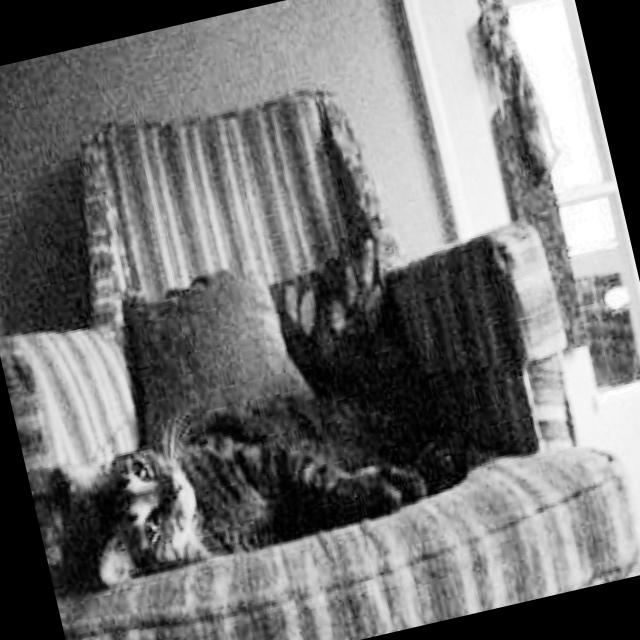Cat: (31, 350, 488, 635)
